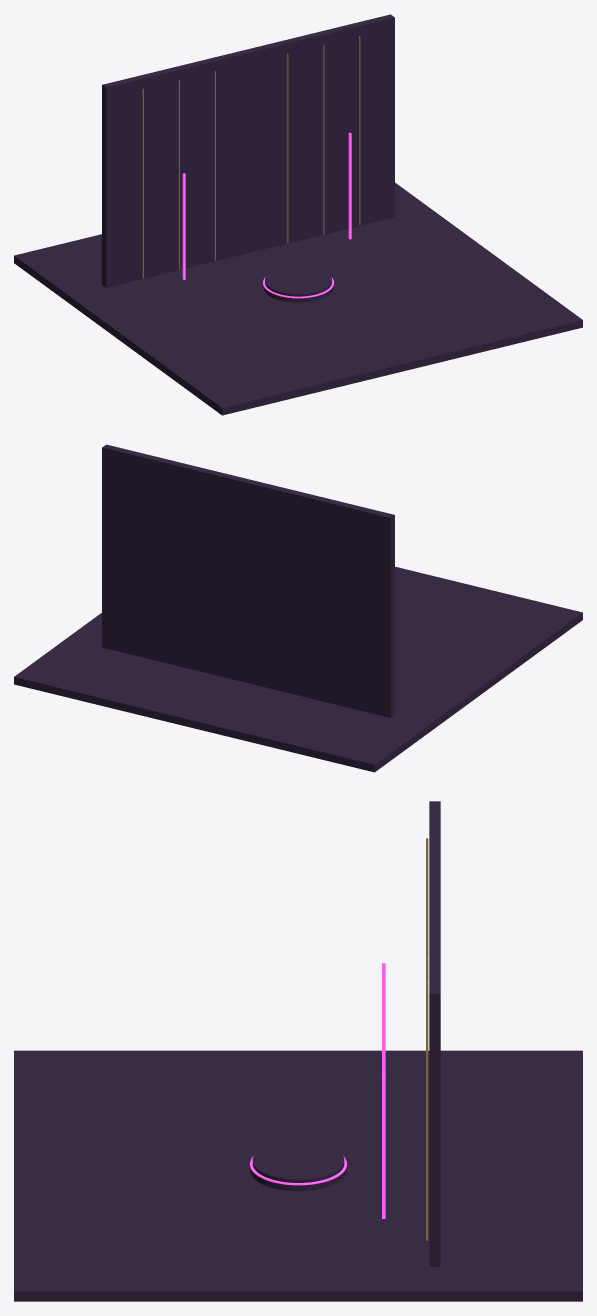
Rendered from room.glb.
3 renders of one model, top to bottom at view 1: azimuth 30°, elevation 25°; view 2: azimuth 150°, elevation 25°; view 3: azimuth 270°, elevation 25°, orthographic. The views are drawn at different scales.
Visible parts, largest first — view 1: Floor, Back wall, Cylinder.002, Vertical brass inlay.003; view 2: Back wall, Floor; view 3: Floor, Back wall, Cylinder.002, Vertical brass inlay.005.
Part boxes in pixels (left/top/right/bottom): Floor: left=14, top=182, right=582, bottom=415; Back wall: left=102, top=14, right=394, bottom=287; Cylinder.002: left=265, top=266, right=331, bottom=296; Vertical brass inlay.003: left=286, top=53, right=288, bottom=242; Back wall: left=102, top=444, right=394, bottom=717; Floor: left=14, top=566, right=582, bottom=772; Floor: left=14, top=1050, right=582, bottom=1301; Back wall: left=429, top=801, right=440, bottom=1266; Cylinder.002: left=252, top=1141, right=344, bottom=1182; Vertical brass inlay.005: left=426, top=982, right=428, bottom=1240.
Size of the model in its own units: 10 by 5.5 by 10.
